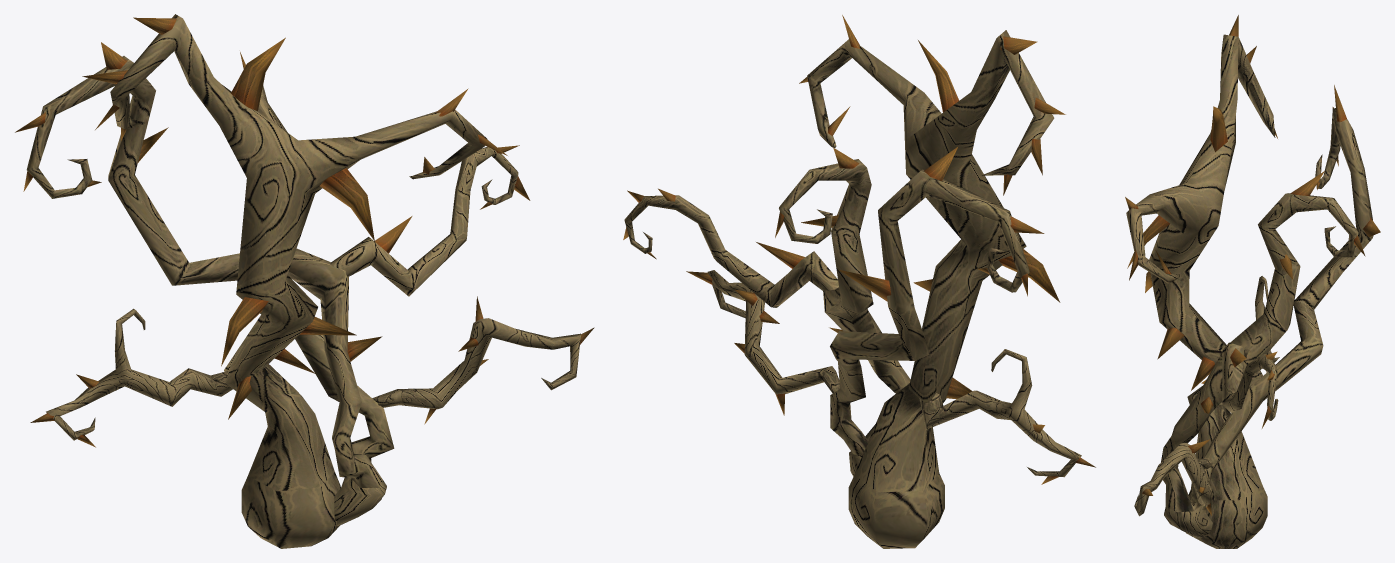
Rendered from Dead Plant.fbx.
3 views of the same model, side by side, from view 1: azimuth 30°, elevation 25°; view 2: azimuth 150°, elevation 25°; view 3: azimuth 270°, elevation 25° (orthographic). The views are drawn at different scales.
Parts seen in each view (by area): view 1: node_id7; view 2: node_id7; view 3: node_id7.
Boxes of the visible parts, x1,y1,x2,y2 form: node_id7: (15,14,594,548); node_id7: (623,15,1095,548); node_id7: (1125,15,1380,548).
Size of the model in its own units: 0.0052 by 0.00555 by 0.00278.
Materials: 1 (1 with a texture image).
